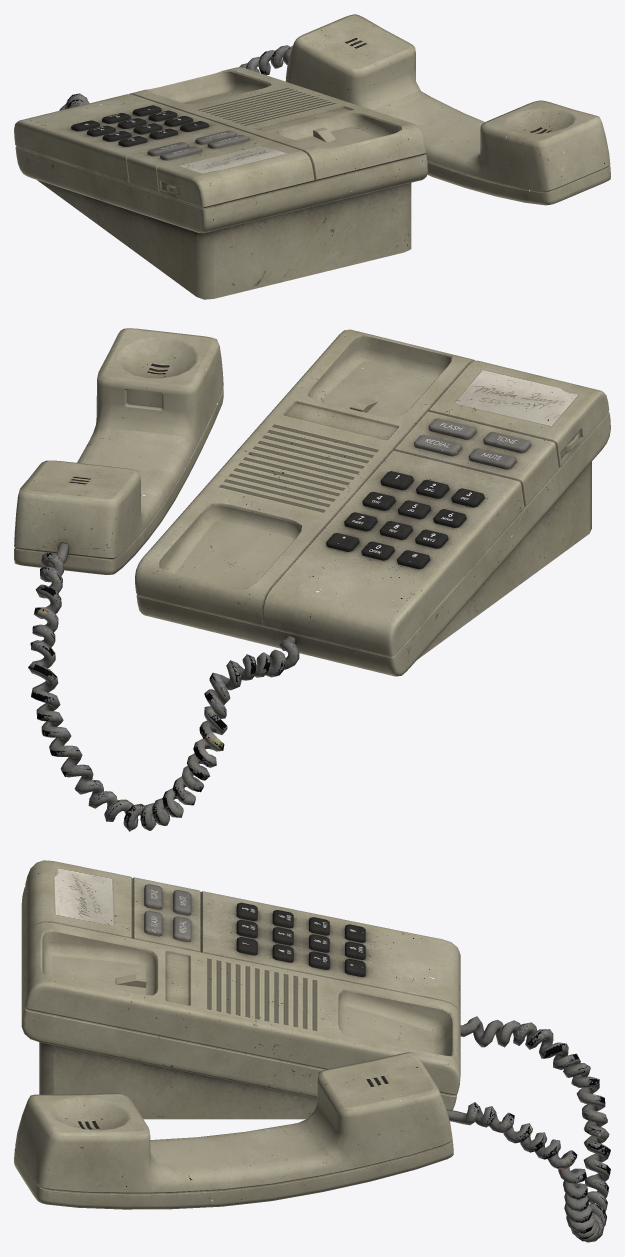
File: phone.glb
The picture shows the model from 3 angles, top to bottom: view 1: azimuth 30°, elevation 25°; view 2: azimuth 150°, elevation 25°; view 3: azimuth 270°, elevation 25°; orthographic projection. The views are drawn at different scales.
Parts seen in each view (by area): view 1: Phone; view 2: Phone; view 3: Phone.
Boxes of the visible parts, box(x1,y1,x2,y2) form: Phone: box(14, 14, 610, 299); Phone: box(14, 328, 610, 831); Phone: box(14, 860, 610, 1242).
Size of the model in its own units: 29.77 by 16.8 by 32.33.
Materials: 1 (1 with a texture image).
